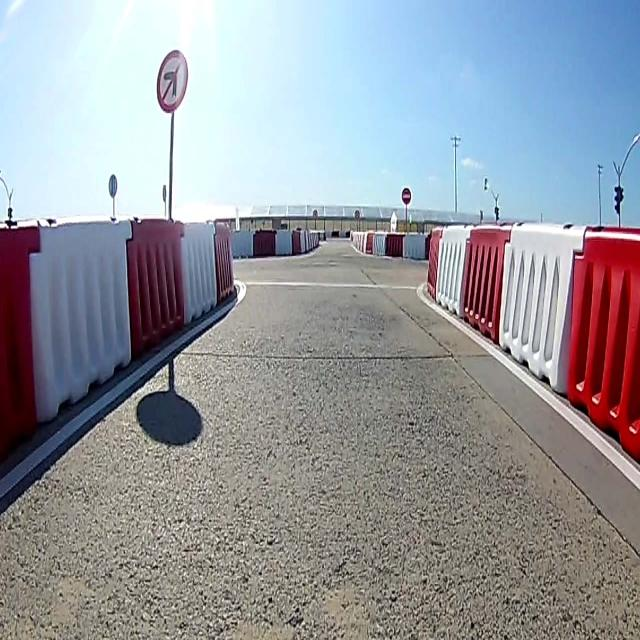girisyok: (401, 187, 412, 205)
soladonulmez: (157, 50, 187, 114)
